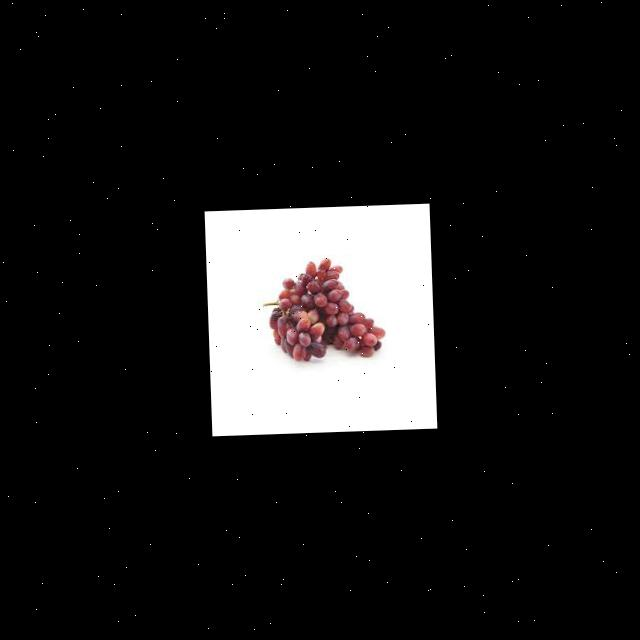grape: (261, 255, 386, 362)
